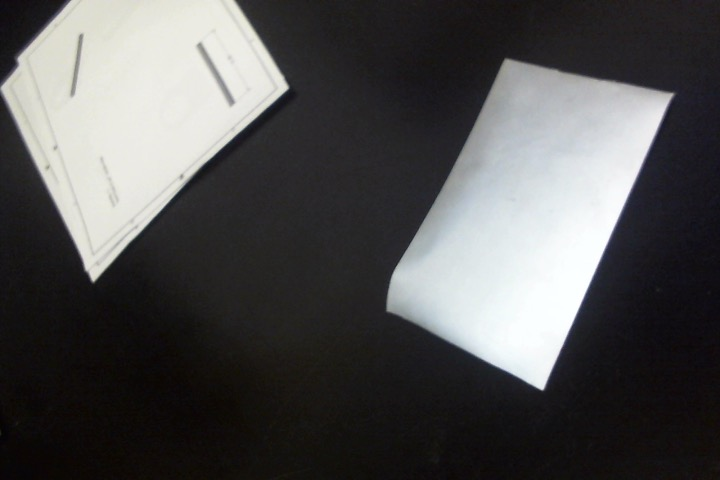Tape: (385, 57, 676, 394)
